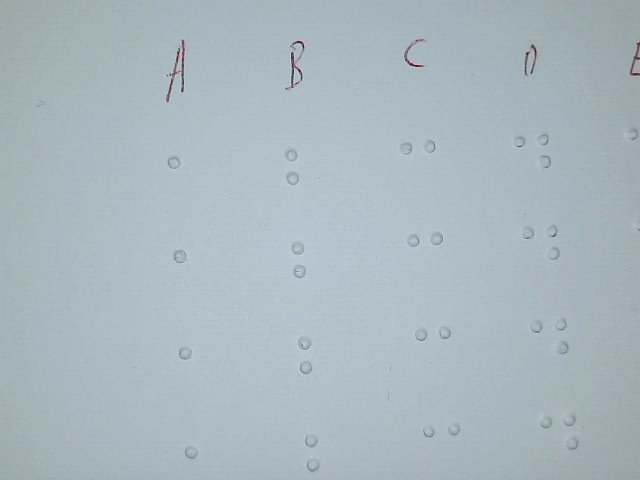A: (158, 146, 214, 225), (164, 237, 220, 316), (171, 336, 227, 415)
B: (275, 138, 333, 216), (280, 231, 338, 309), (287, 324, 345, 402)
C: (393, 129, 443, 203), (401, 221, 451, 295), (407, 314, 457, 388)
